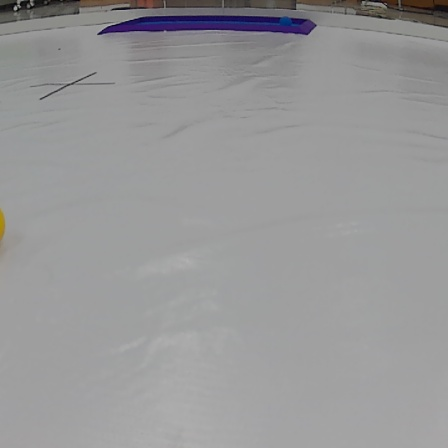blue: (278, 14, 293, 25)
blue_aim: (101, 13, 312, 39)
yellow: (0, 206, 6, 245)
